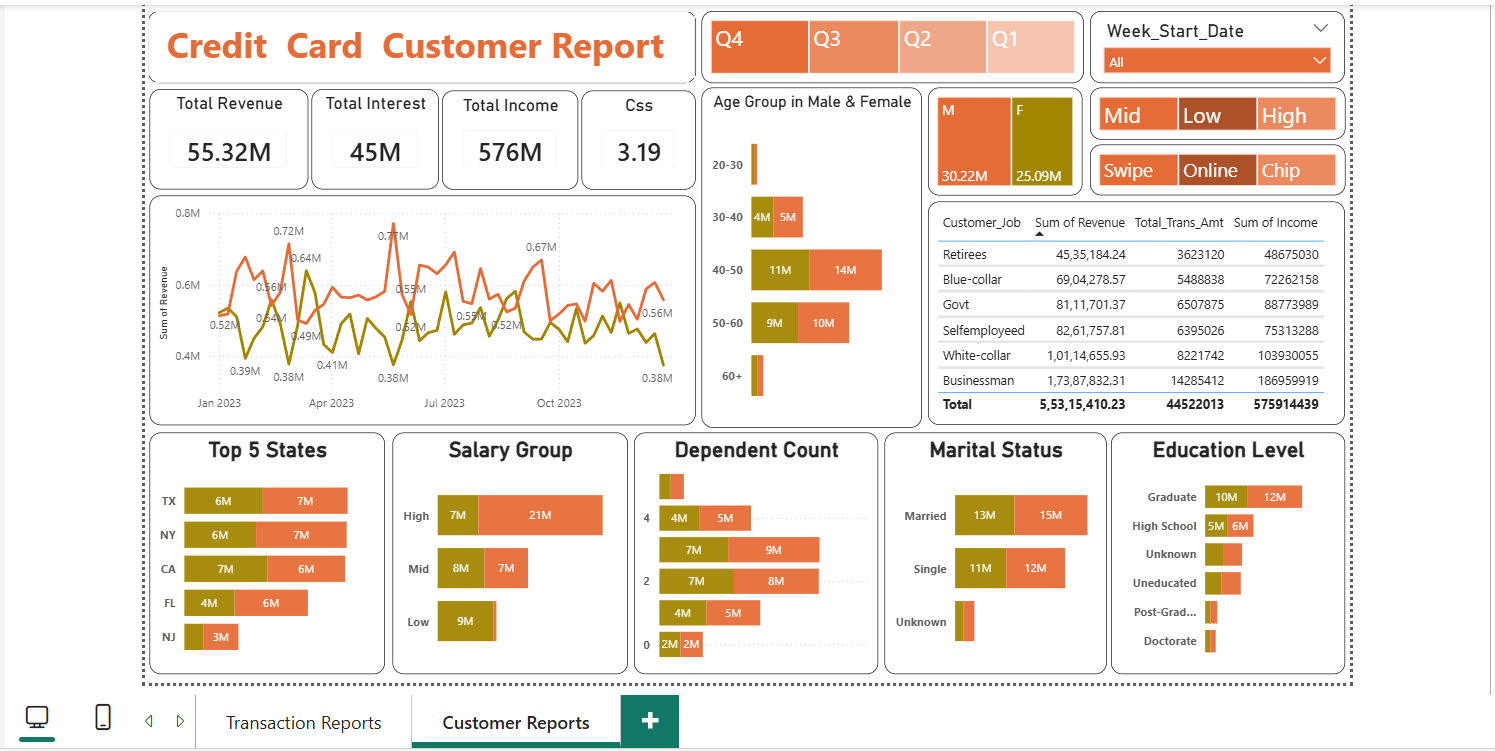

The page's visual inventory and layout, read from the dashboard file:
{"tool":"powerbi","page":{"name":"Customer Reports","canvas":[1280,720],"ordinal":1},"visuals":[{"type":"textbox","box":[3.2,6.4,582,76.5],"z":0},{"type":"tableEx","title":"Sum of Revenue by exp_type","fields":{"Values":["customer.Customer_Job","Sum(credit_card.Revenue)","Sum(credit_card.Total_Trans_Amt)","Sum(customer.Income)"]},"box":[831.5,208.7,442.8,237.3],"z":1000},{"type":"cardVisual","title":"Total Revenue","fields":{"Data":["Sum(credit_card.Revenue)"]},"box":[4.8,89.2,168.8,106.7],"z":2000},{"type":"cardVisual","title":"Total Interest","fields":{"Data":["Sum(credit_card.Total_Trans_Amt)"]},"box":[176.8,89.2,135.4,106.7],"z":3000},{"type":"cardVisual","title":"Total Income","fields":{"Data":["Sum(customer.Income)"]},"box":[315.4,90.8,145,105.1],"z":4000},{"type":"cardVisual","title":"Css","fields":{"Data":["Avg(customer.Cust_Satisfaction_Score)"]},"box":[463.5,90.8,121.1,105.1],"z":5000},{"type":"slicer","fields":{"Values":["credit_card.Week_Start_Date"]},"box":[1003.5,6.4,270.8,76.5],"z":6000},{"type":"lineChart","title":"Revenue of Week","fields":{"Y":["Sum(credit_card.Revenue)"],"Series":["customer.Gender"],"Category":["credit_card.Week_Start_Date.Variation.Date Hierarchy.Year","credit_card.Week_Start_Date.Variation.Date Hierarchy.Month","credit_card.Week_Start_Date.Variation.Date Hierarchy.Day"]},"box":[4.8,202.3,579.8,243.7],"z":7000},{"type":"treemap","fields":{"Group":["customer.Gender"],"Values":["Sum(credit_card.Revenue)"]},"box":[831.5,87.6,164.1,114.7],"z":8000},{"type":"barChart","title":"Age Group in Male & Female","fields":{"Y":["Sum(credit_card.Revenue)"],"Category":["customer.AgeGroup"],"Series":["customer.Gender"]},"box":[591,87.6,234.2,361.6],"z":9000},{"type":"barChart","title":"Dependent Count","fields":{"Y":["Sum(credit_card.Revenue)"],"Category":["customer.Dependent_Count"],"Series":["customer.Gender"]},"box":[519.3,454,259.6,256.5],"z":10000},{"type":"barChart","title":"Education Level","fields":{"Y":["Sum(credit_card.Revenue)"],"Category":["customer.Education_Level"],"Series":["customer.Gender"]},"box":[1025.8,454,248.5,256.5],"z":11000},{"type":"barChart","title":"Top 5 States","fields":{"Y":["Sum(credit_card.Revenue)"],"Category":["customer.state_cd"],"Series":["customer.Gender"]},"box":[4.8,454,250.1,256.5],"z":12000},{"type":"barChart","title":"Marital Status","fields":{"Y":["Sum(credit_card.Revenue)"],"Category":["customer.Marital_Status"],"Series":["customer.Gender"]},"box":[785.3,454,235.8,256.5],"z":13000},{"type":"treemap","fields":{"Values":["Avg(credit_card.Client_Num)"],"Group":["credit_card.Use Chip"]},"box":[1003.2,147.6,271.4,54],"z":14000},{"type":"treemap","fields":{"Group":["credit_card.Qtr"],"Values":["Avg(credit_card.Client_Num)"]},"box":[591,6.4,406.2,76.5],"z":15000},{"type":"treemap","fields":{"Values":["Avg(credit_card.Client_Num)"],"Group":["customer.IncomeGroup"]},"box":[1003.2,87.3,271.4,55.6],"z":16000},{"type":"barChart","title":"Salary Group","fields":{"Y":["Sum(credit_card.Revenue)"],"Category":["customer.IncomeGroup"],"Series":["customer.Gender"]},"box":[262.8,454,250.1,256.5],"z":17000}]}

Visuals, with their boxes on the page's 1280x720 design canvas (x1, y1, x2, y2). These are canvas units, not pixel positions in the 1495x751 screenshot, which may show the page scaled, cropped or inside an application window:
textbox: detection(3, 6, 585, 83)
"Sum of Revenue by exp_type" tableEx: detection(832, 209, 1274, 446)
"Total Revenue" cardVisual: detection(5, 89, 174, 196)
"Total Interest" cardVisual: detection(177, 89, 312, 196)
"Total Income" cardVisual: detection(315, 91, 460, 196)
"Css" cardVisual: detection(464, 91, 585, 196)
slicer - credit_card.Week_Start_Date: detection(1004, 6, 1274, 83)
"Revenue of Week" lineChart: detection(5, 202, 585, 446)
treemap - customer.Gender x Sum(credit_card.Revenue): detection(832, 88, 996, 202)
"Age Group in Male & Female" barChart: detection(591, 88, 825, 449)
"Dependent Count" barChart: detection(519, 454, 779, 710)
"Education Level" barChart: detection(1026, 454, 1274, 710)
"Top 5 States" barChart: detection(5, 454, 255, 710)
"Marital Status" barChart: detection(785, 454, 1021, 710)
treemap - Avg(credit_card.Client_Num) x credit_card.Use Chip: detection(1003, 148, 1275, 202)
treemap - credit_card.Qtr x Avg(credit_card.Client_Num): detection(591, 6, 997, 83)
treemap - Avg(credit_card.Client_Num) x customer.IncomeGroup: detection(1003, 87, 1275, 143)
"Salary Group" barChart: detection(263, 454, 513, 710)
